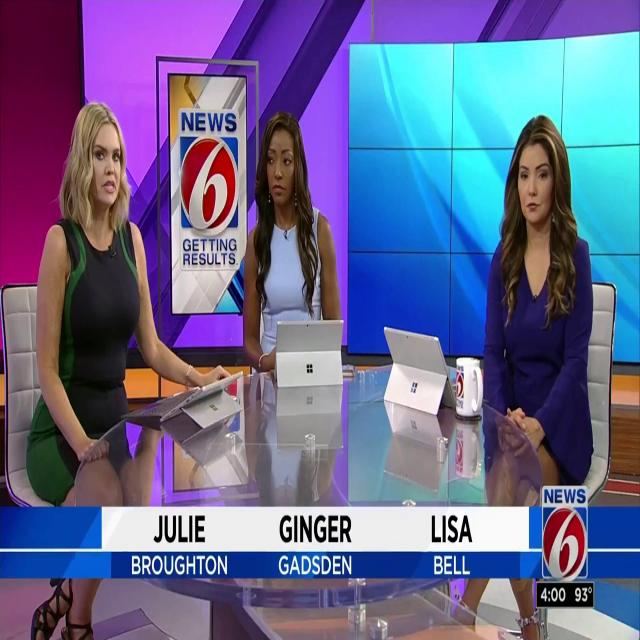adult: (31, 97, 224, 640), (461, 105, 594, 640), (242, 110, 344, 440)
